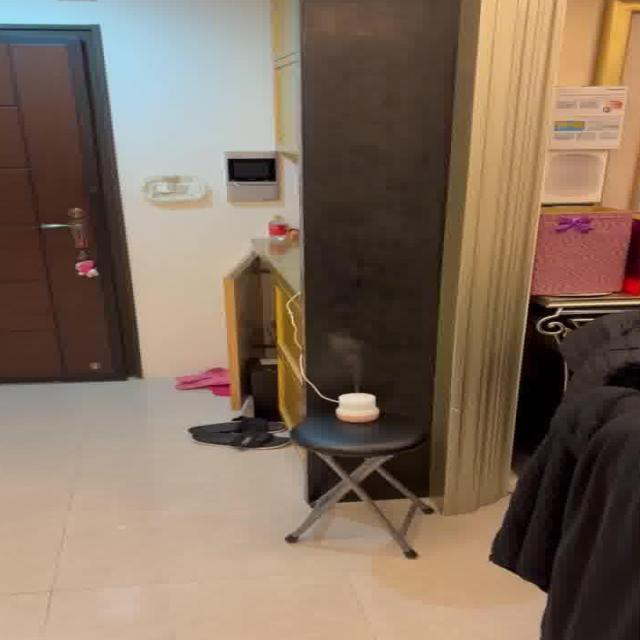fire: (319, 328, 366, 386)
